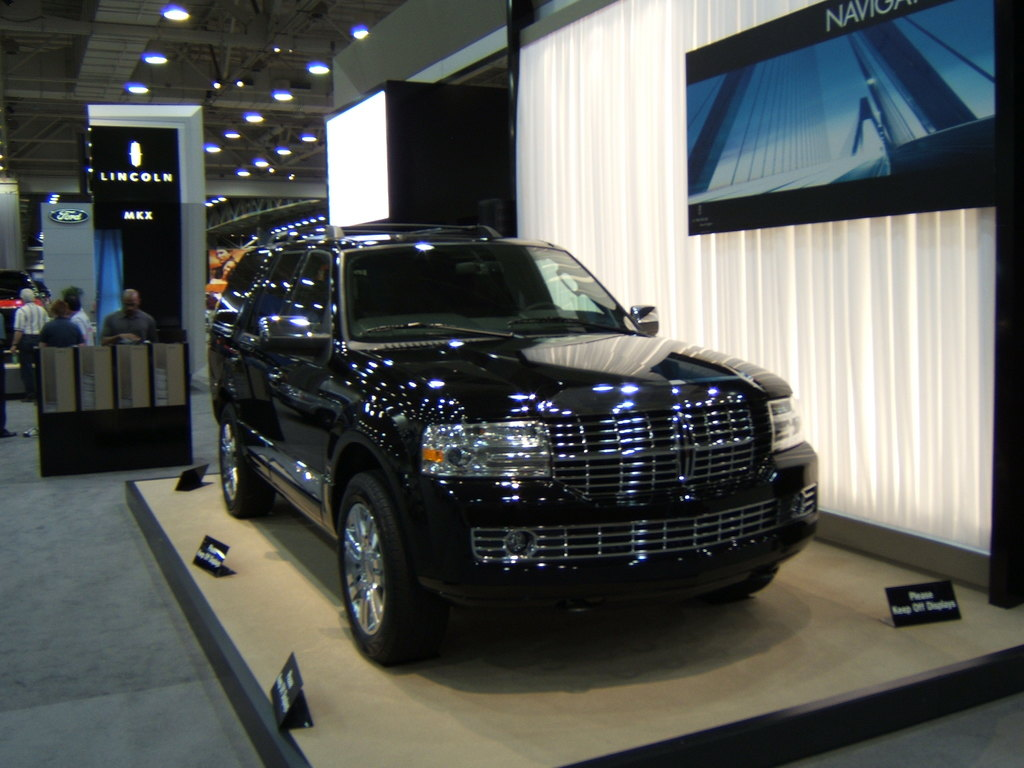Person: (7, 281, 50, 401), (97, 283, 169, 351), (34, 295, 90, 345), (67, 292, 92, 342)
